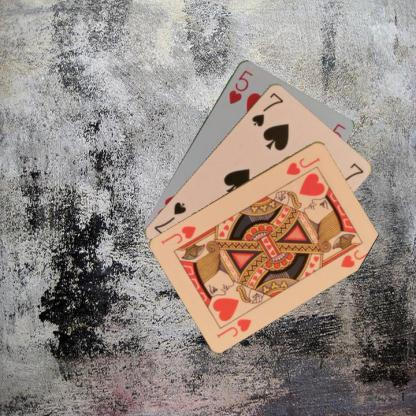5h: (226, 67, 254, 105)
7s: (249, 89, 285, 128)
Jh: (214, 316, 252, 338), (284, 154, 321, 176)
